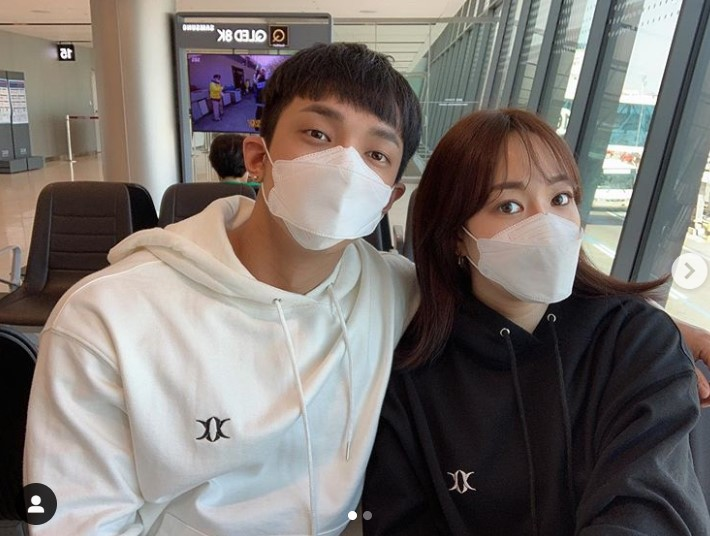face_with_mask: (248, 56, 410, 251), (444, 117, 584, 300)
